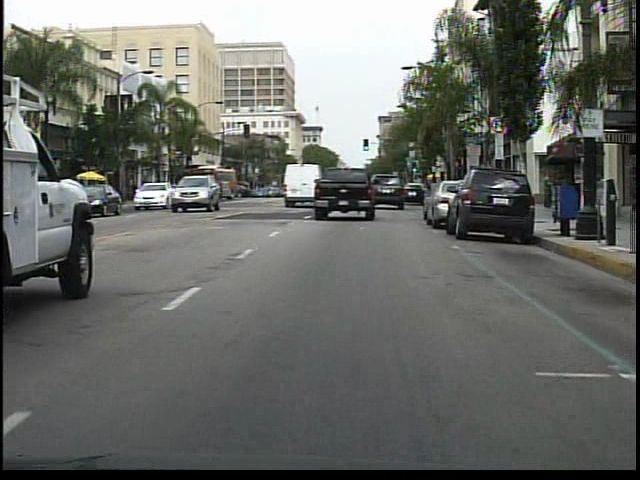car: (450, 161, 535, 236), (316, 167, 374, 221), (171, 172, 221, 214), (283, 163, 318, 205), (84, 179, 124, 214), (133, 181, 171, 209), (374, 176, 405, 208), (428, 181, 449, 224)
strada: (37, 228, 597, 459)
